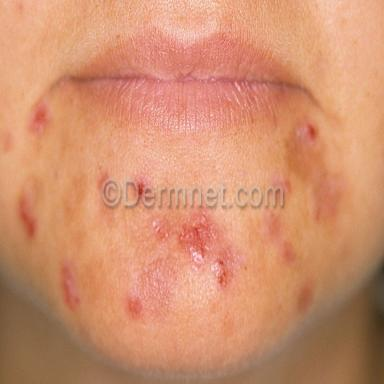acne: (177, 211, 220, 267), (211, 258, 228, 287), (152, 218, 174, 239), (128, 297, 143, 317)
